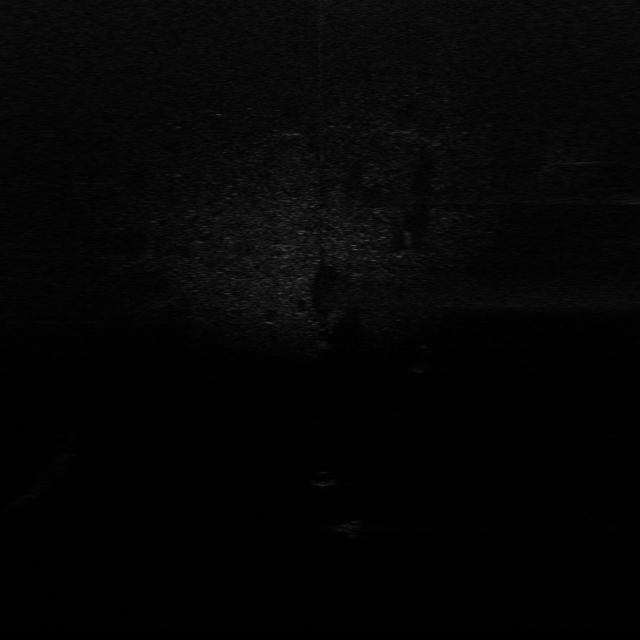ball: (314, 470, 340, 489)
square cage: (323, 519, 369, 539)
tyre: (407, 342, 443, 374)
